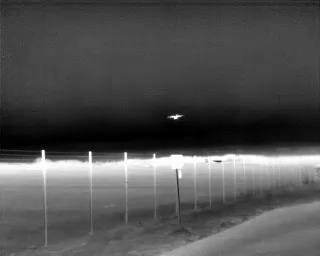AIRPLANE: (166, 112, 185, 122)
